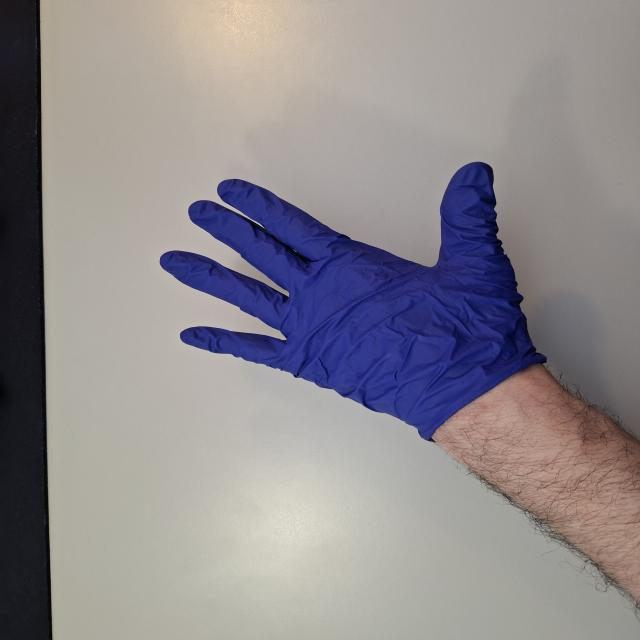glove_on: (157, 159, 537, 448)
